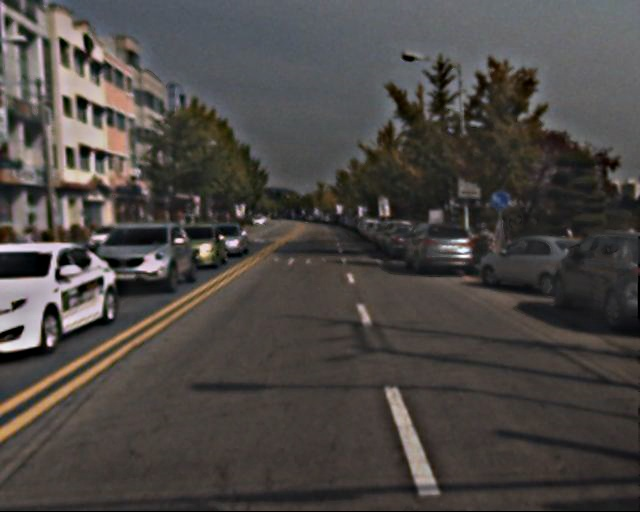person: (554, 221, 575, 273), (477, 217, 496, 264), (496, 219, 515, 266)
